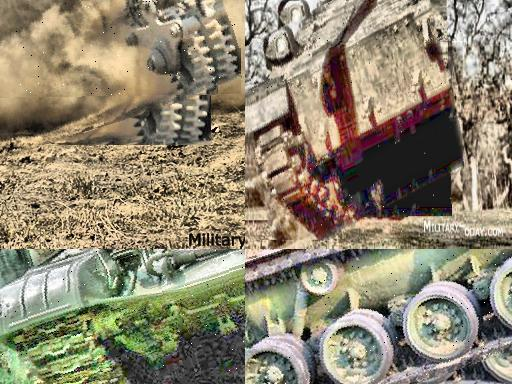tanks: (248, 1, 463, 240), (246, 250, 512, 384), (1, 250, 246, 384), (29, 1, 241, 96)
